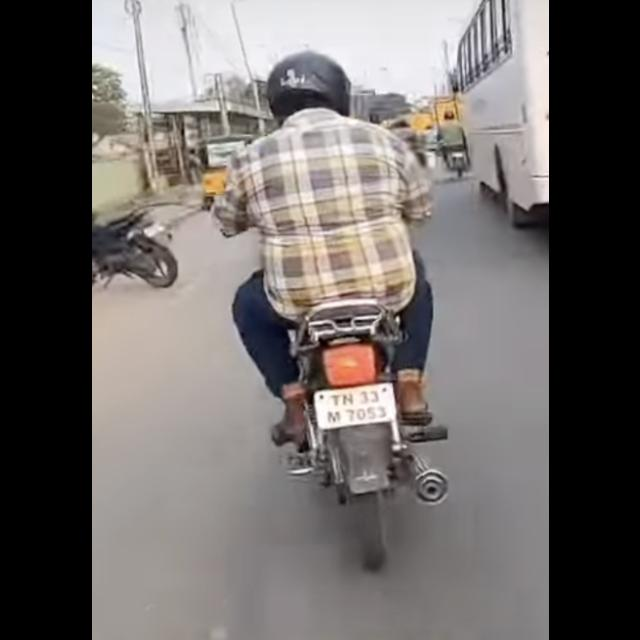with helmet: (265, 51, 349, 113)
